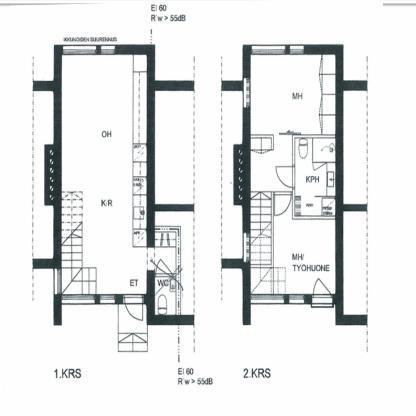bathroom: (294, 136, 338, 217), (151, 276, 182, 318)
door: (309, 276, 336, 310), (123, 290, 146, 324), (272, 190, 294, 218), (274, 164, 298, 189), (152, 258, 176, 279), (311, 158, 326, 173)
perimeter: (244, 50, 341, 298), (57, 49, 154, 297)
window: (61, 40, 119, 61), (248, 290, 309, 308), (250, 39, 306, 58), (60, 292, 118, 308), (241, 74, 255, 114), (50, 266, 66, 300), (240, 229, 254, 264)
